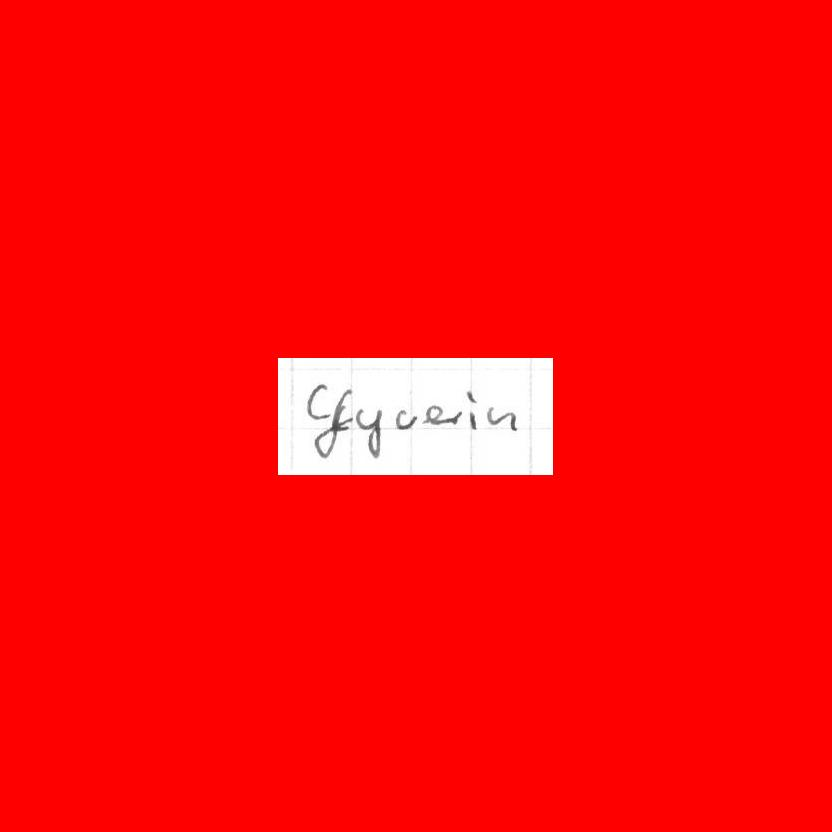Char: (313, 387, 353, 462), (358, 405, 384, 460), (305, 380, 330, 423), (486, 406, 518, 431), (464, 390, 481, 430), (422, 403, 445, 427), (394, 408, 417, 430), (441, 408, 463, 427)
